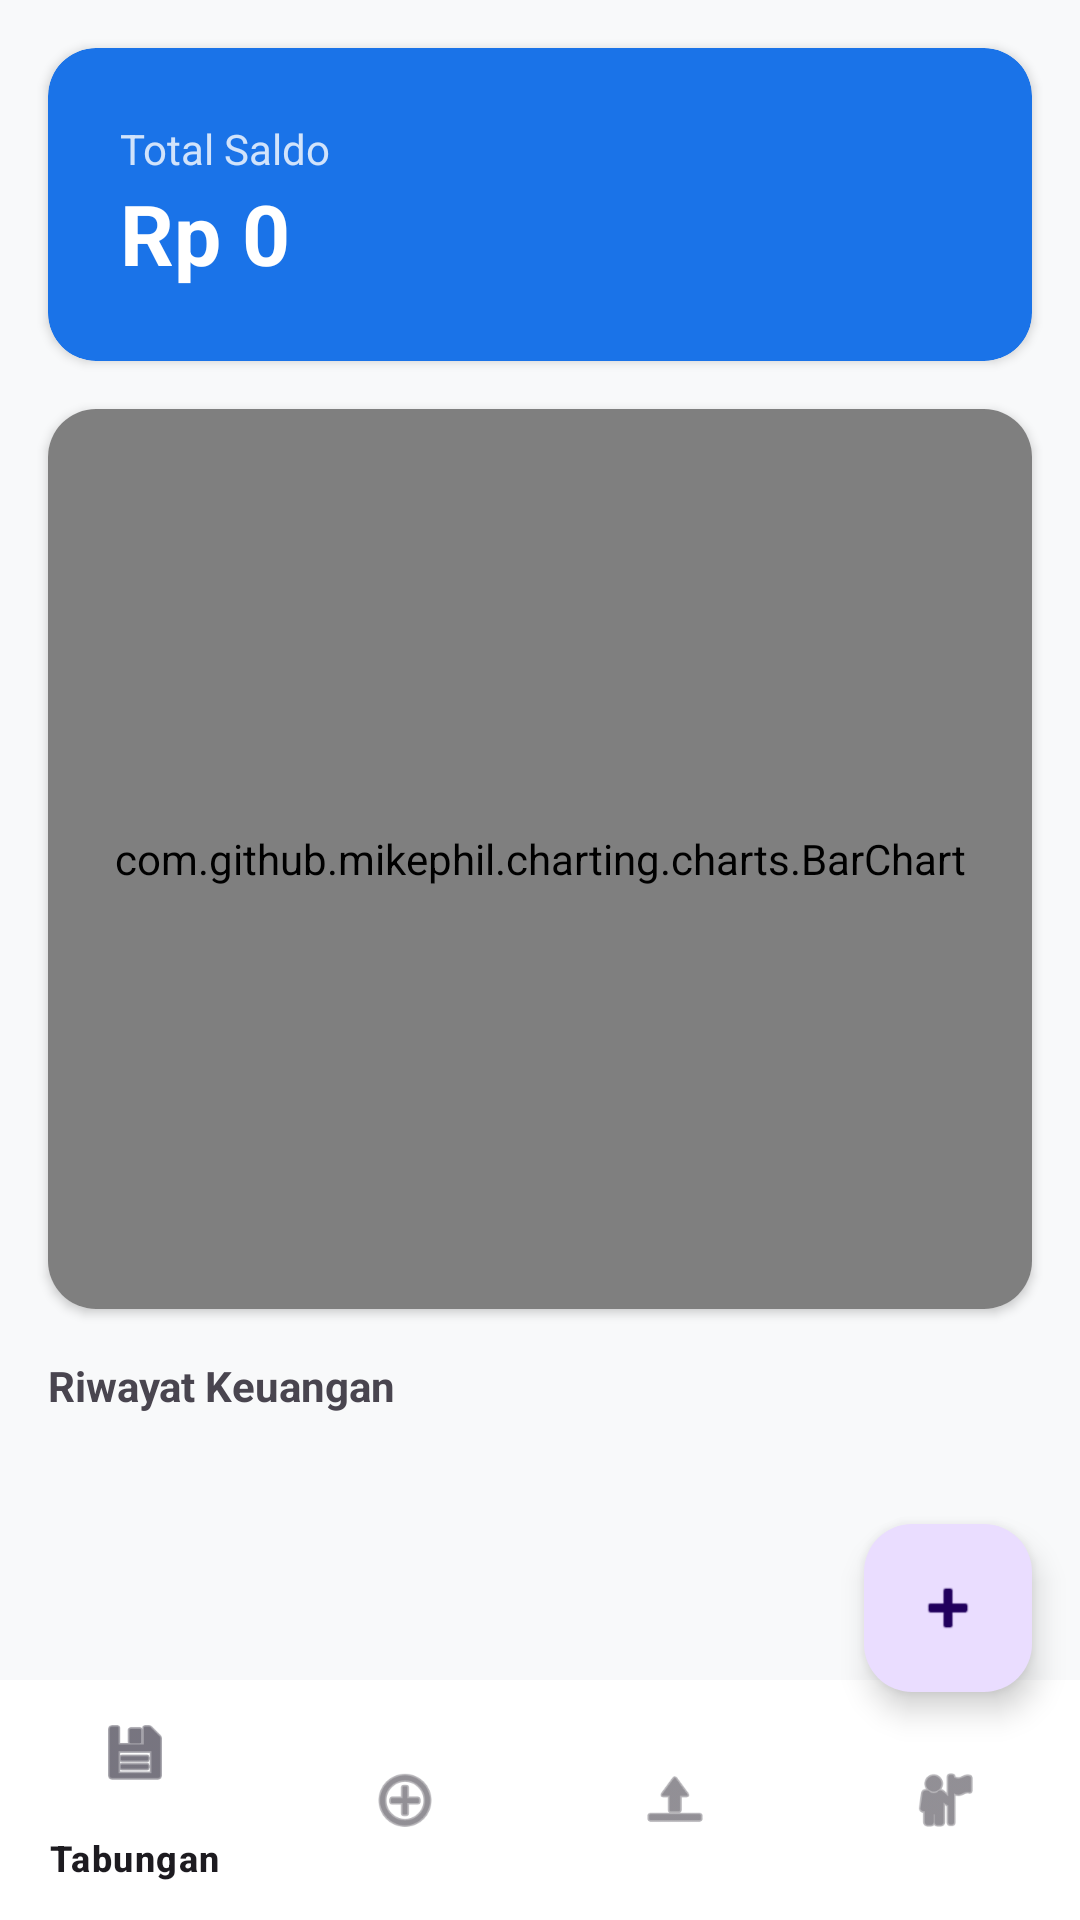

Icons on this 1080w x 1920h Android screen, each with its box as (x1, y1, x2, y2):
Tambah Catatan: (864, 1524, 1032, 1692)
